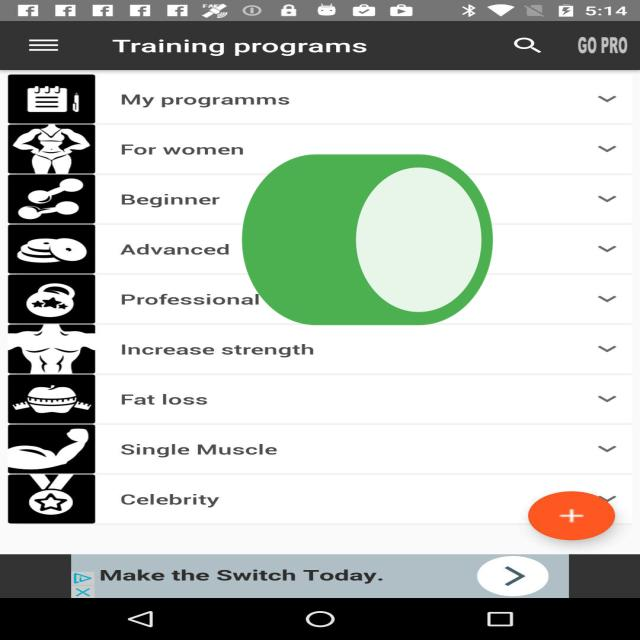social proof: (230, 89, 504, 404)
